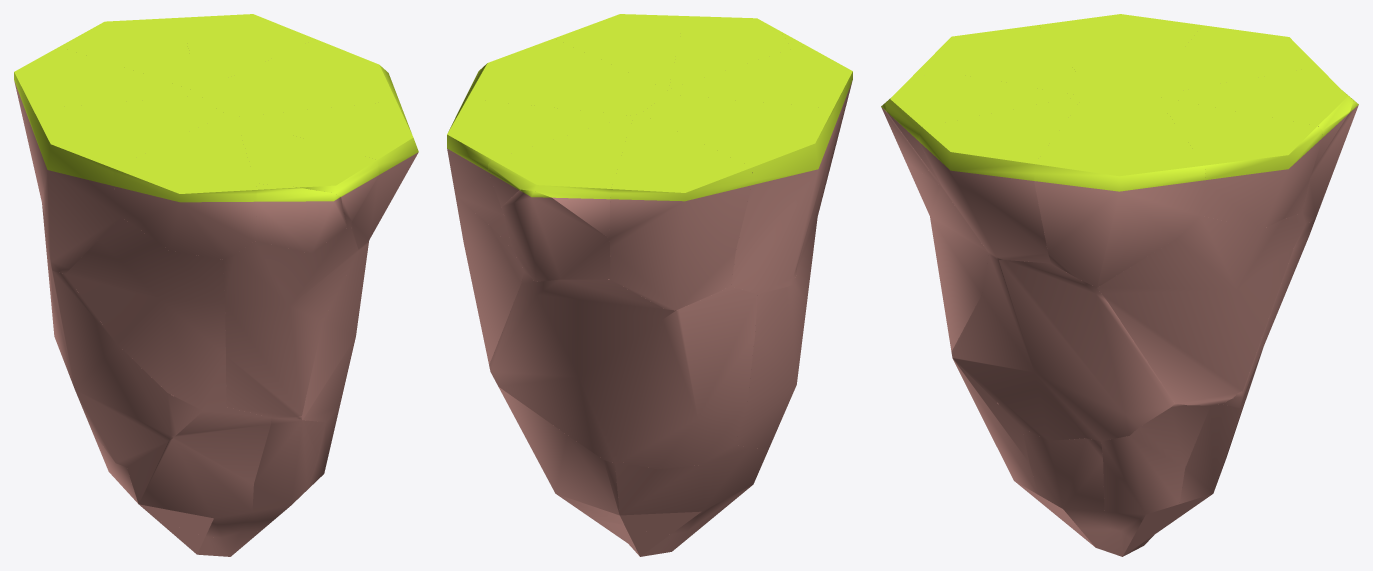
The model's file is OLand.glb.
The picture shows the model from 3 angles, left to right: view 1: azimuth 30°, elevation 25°; view 2: azimuth 150°, elevation 25°; view 3: azimuth 270°, elevation 25°; orthographic projection.
Parts seen in each view (by area): view 1: Xland_cell.002, Xland_cell.021, Xland_cell.017, Xland_cell.004, Xland_cell.008, Xland_cell.009, Xland_cell.019, Xland_cell.016, Xland_cell.022, Xland_cell.003, Xland_cell.023, Xland_cell.014 (+8 smaller); view 2: Xland_cell, Xland_cell.022, Xland_cell.017, Xland_cell.015, Xland_cell.019, Xland_cell.023, Xland_cell.014, Xland_cell.025, Xland_cell.009, Xland_cell.004, Xland_cell.005, Xland_cell.001 (+6 smaller); view 3: Xland_cell.007, Xland_cell.019, Xland_cell.011, Xland_cell.016, Xland_cell.023, Xland_cell.010, Xland_cell.017, Xland_cell.004, Xland_cell.014, Xland_cell.003, Xland_cell.022, Xland_cell.021 (+7 smaller).
Boxes of the visible parts, box(x1,y1,x2,y2) form: Xland_cell.002: box(65, 217, 226, 410); Xland_cell.021: box(223, 225, 358, 417); Xland_cell.017: box(30, 95, 224, 273); Xland_cell.004: box(113, 114, 256, 259); Xland_cell.008: box(127, 407, 271, 537); Xland_cell.009: box(49, 254, 202, 467); Xland_cell.019: box(199, 39, 403, 116); Xland_cell.016: box(235, 101, 418, 250); Xland_cell.022: box(14, 47, 199, 220); Xland_cell.003: box(236, 118, 378, 227); Xland_cell.023: box(180, 14, 315, 90); Xland_cell.014: box(59, 17, 200, 91); Xland_cell: box(489, 271, 665, 463); Xland_cell.022: box(609, 113, 752, 310); Xland_cell.017: box(641, 94, 835, 294); Xland_cell.015: box(619, 286, 757, 469); Xland_cell.019: box(463, 38, 667, 115); Xland_cell.023: box(447, 99, 629, 248); Xland_cell.014: box(488, 115, 633, 238); Xland_cell.025: box(615, 444, 768, 534); Xland_cell.009: box(735, 277, 807, 448); Xland_cell.004: box(667, 45, 852, 153); Xland_cell.005: box(501, 189, 610, 281); Xland_cell.001: box(498, 387, 626, 528); Xland_cell.007: box(951, 254, 1174, 441); Xland_cell.019: box(1034, 94, 1205, 287); Xland_cell.011: box(1097, 213, 1305, 405); Xland_cell.016: box(918, 96, 1083, 263); Xland_cell.023: box(1157, 97, 1322, 229); Xland_cell.010: box(1101, 404, 1210, 539); Xland_cell.017: box(1039, 14, 1202, 93); Xland_cell.004: box(921, 25, 1093, 95); Xland_cell.014: box(1154, 66, 1353, 169); Xland_cell.003: box(885, 70, 1080, 187); Xland_cell.022: box(1146, 25, 1318, 95); Xland_cell.021: box(905, 161, 988, 351).
Size of the model in its own units: 69.15 by 86.29 by 82.91.
